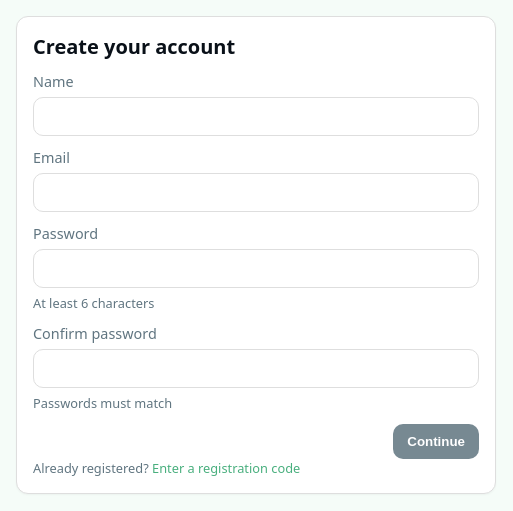
RegisterVerify › should show error message if registration start fails
Type "John Doe" into the field labelled "Name" at (256,116), box left=33, top=97, right=479, bottom=136
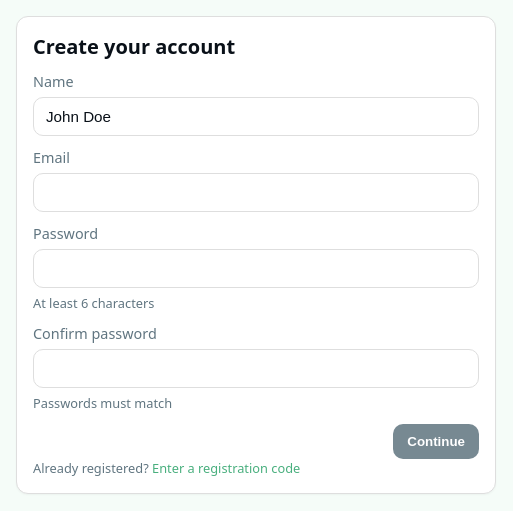
Type "john@example.com" into the field labelled "Email" at (256,192), box left=33, top=173, right=479, bottom=212
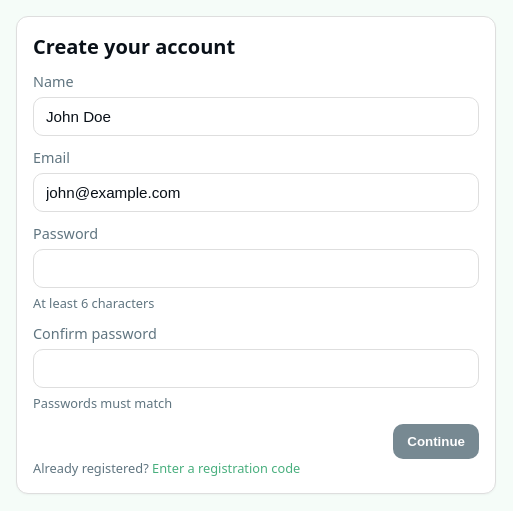
Type "password123" into the password field labelled "Password" at (256,268), box left=33, top=249, right=479, bottom=288
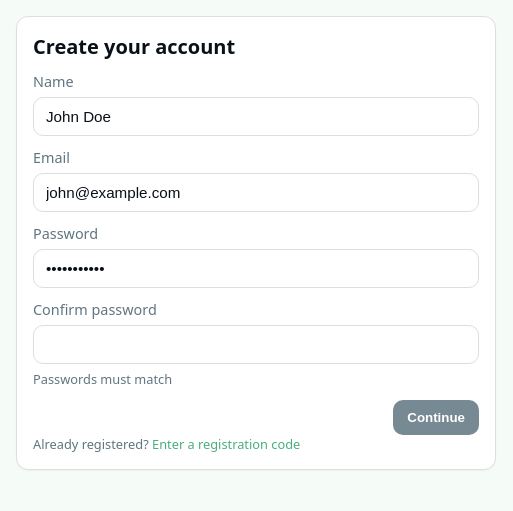
Type "password123" into the password field labelled "Confirm password" at (256,344), box left=33, top=325, right=479, bottom=364
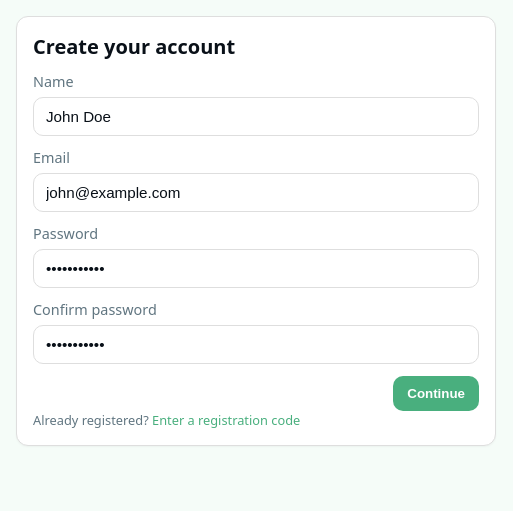
Click the button "Continue" at (436,394), box left=393, top=376, right=479, bottom=411
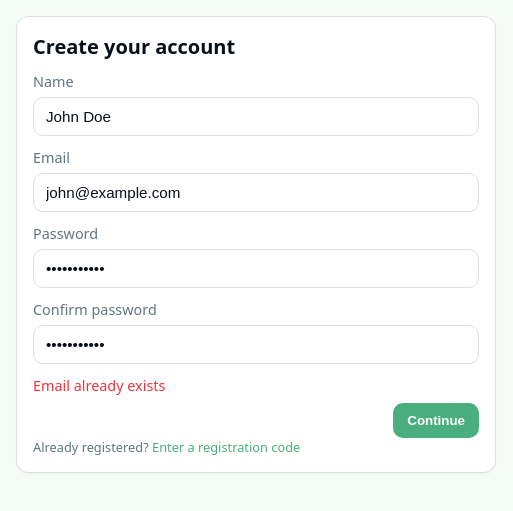
Result: the text "Email already exists" is shown at left=33, top=376, right=165, bottom=395
